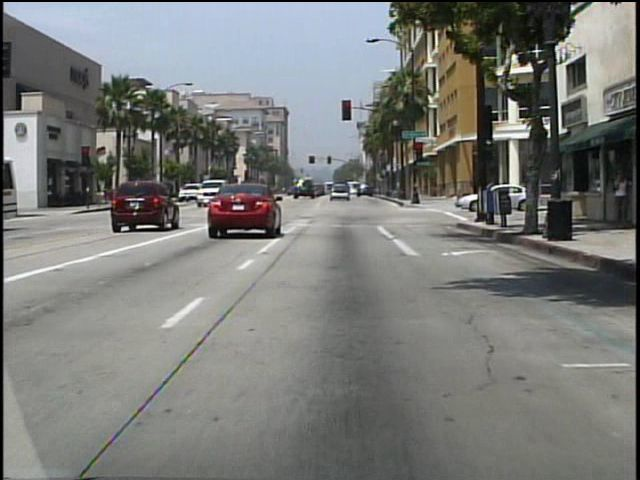person: (607, 166, 630, 228)
